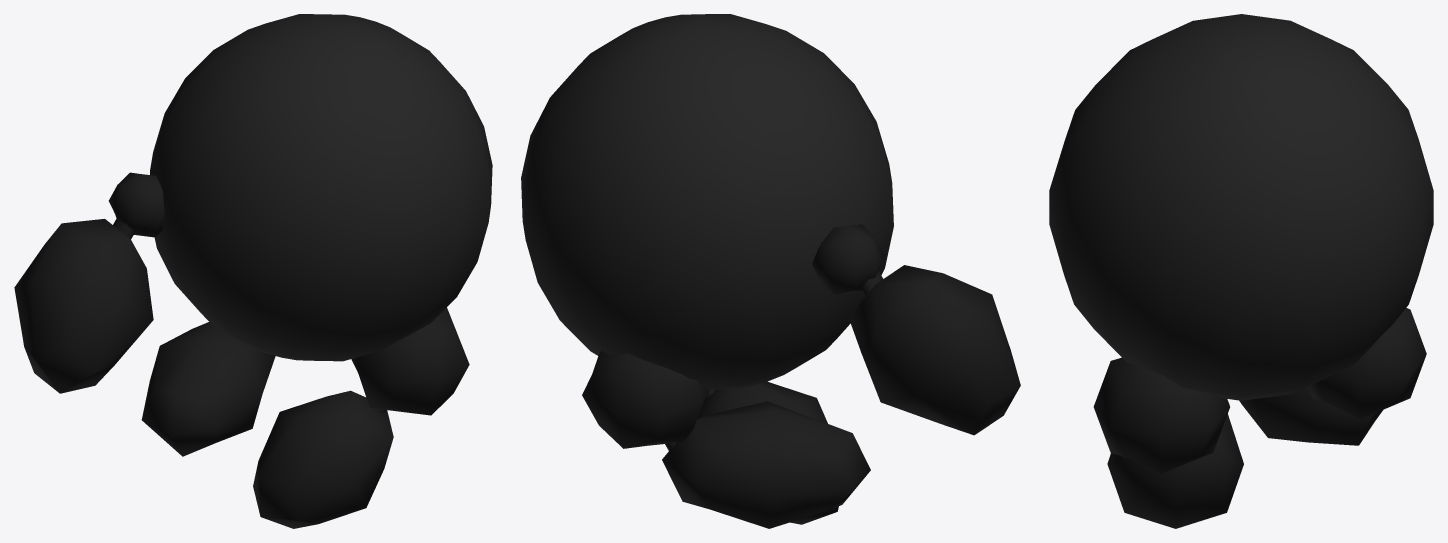
Rendered from hand_left.obj.
The picture shows the model from 3 angles, left to right: view 1: azimuth 30°, elevation 25°; view 2: azimuth 150°, elevation 25°; view 3: azimuth 270°, elevation 25°; orthographic projection. The views are drawn at different scales.
Parts seen in each view (by area): view 1: hand_left left_hand pivot, hand_left pinky_2_left, hand_left thumb_2_left, hand_left middle_2_left, hand_left thumb_1_left, hand_left pinky_1_left; view 2: hand_left left_hand pivot, hand_left pinky_2_left, hand_left middle_2_left, hand_left middle_1_left, hand_left pinky_1_left, hand_left thumb_2_left; view 3: hand_left left_hand pivot, hand_left thumb_1_left, hand_left thumb_2_left, hand_left middle_1_left, hand_left middle_2_left.
Boxes of the visible parts, bbox=[...] form: hand_left left_hand pivot: bbox=[150, 14, 492, 361]; hand_left pinky_2_left: bbox=[14, 219, 153, 393]; hand_left thumb_2_left: bbox=[253, 390, 393, 528]; hand_left middle_2_left: bbox=[141, 322, 275, 456]; hand_left thumb_1_left: bbox=[351, 307, 469, 415]; hand_left pinky_1_left: bbox=[108, 172, 164, 237]; hand_left left_hand pivot: bbox=[521, 14, 893, 389]; hand_left pinky_2_left: bbox=[849, 265, 1020, 435]; hand_left middle_2_left: bbox=[662, 401, 870, 528]; hand_left middle_1_left: bbox=[582, 350, 708, 448]; hand_left pinky_1_left: bbox=[812, 224, 884, 294]; hand_left thumb_2_left: bbox=[698, 381, 838, 524]; hand_left left_hand pivot: bbox=[1049, 14, 1433, 400]; hand_left thumb_1_left: bbox=[1093, 357, 1229, 473]; hand_left thumb_2_left: bbox=[1107, 414, 1243, 528]; hand_left middle_1_left: bbox=[1308, 308, 1426, 418]; hand_left middle_2_left: bbox=[1239, 386, 1382, 445].
Bounding box in the file's own units: 0.2458 × 0.2486 × 0.1689.
1 material, 1 textured.
